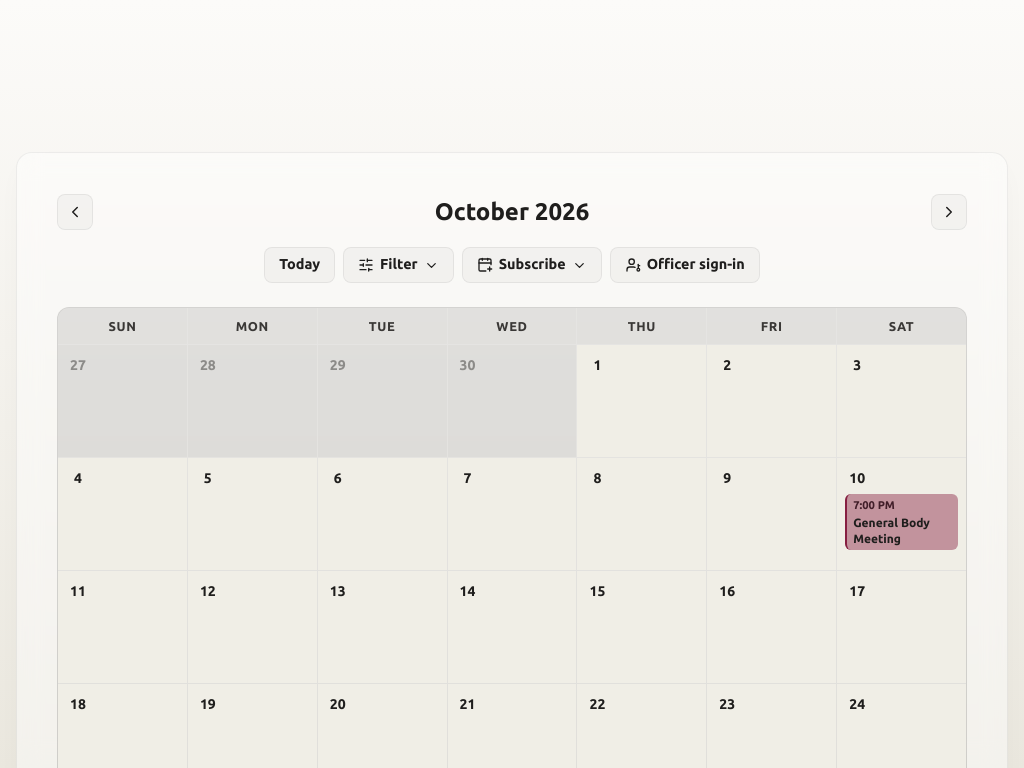
Test: Calendar page › closes the modal on the close button, then reopens on the next click
Click the button "7:00 PM General Body Meeting": coordinates (902, 522) [845,494,958,550]
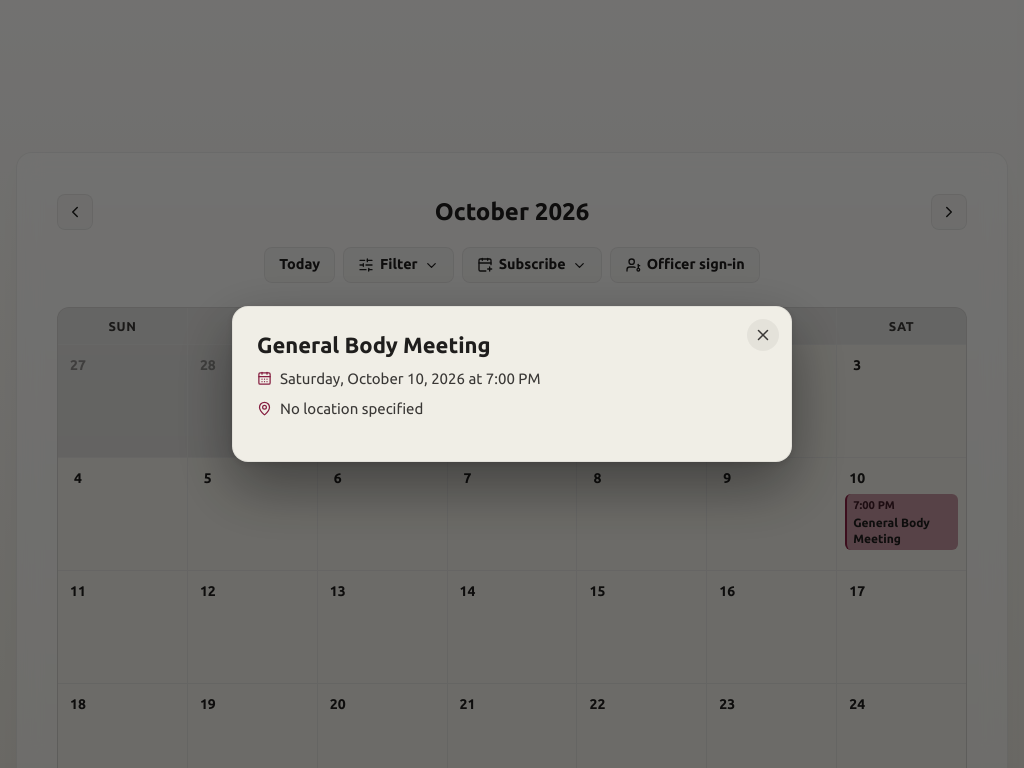
Click the button named "Close": coordinates (763, 335) [747,319,779,351]
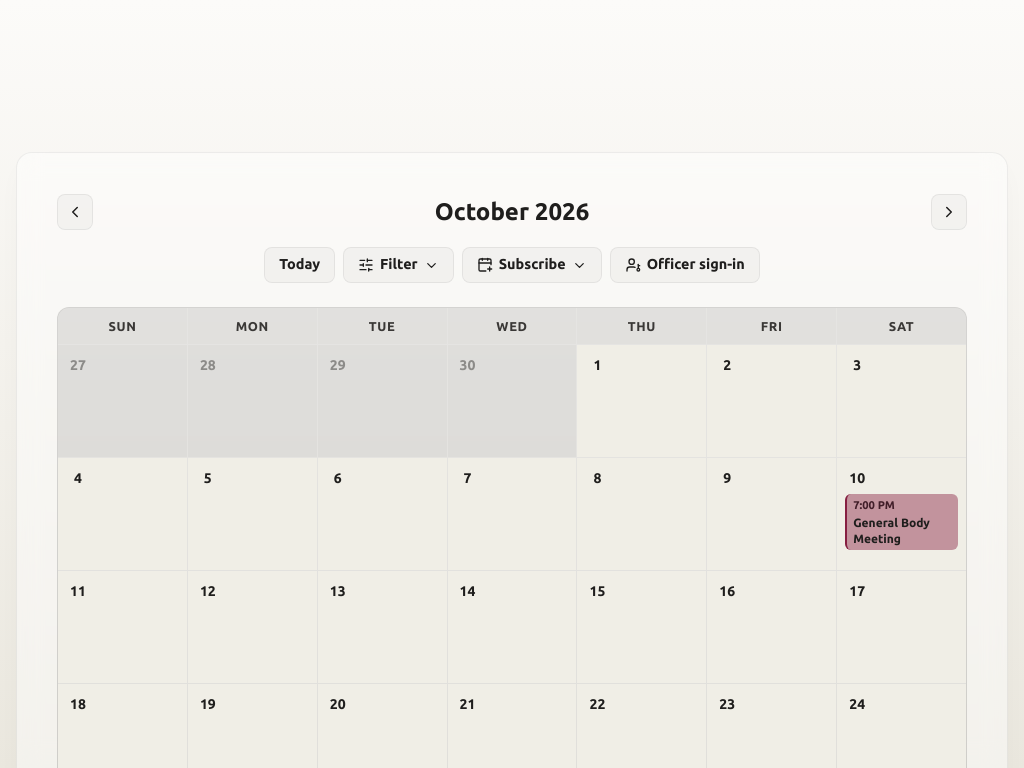
Expected: the dialog is gone
Click the button "7:00 PM General Body Meeting": coordinates (902, 522) [845,494,958,550]
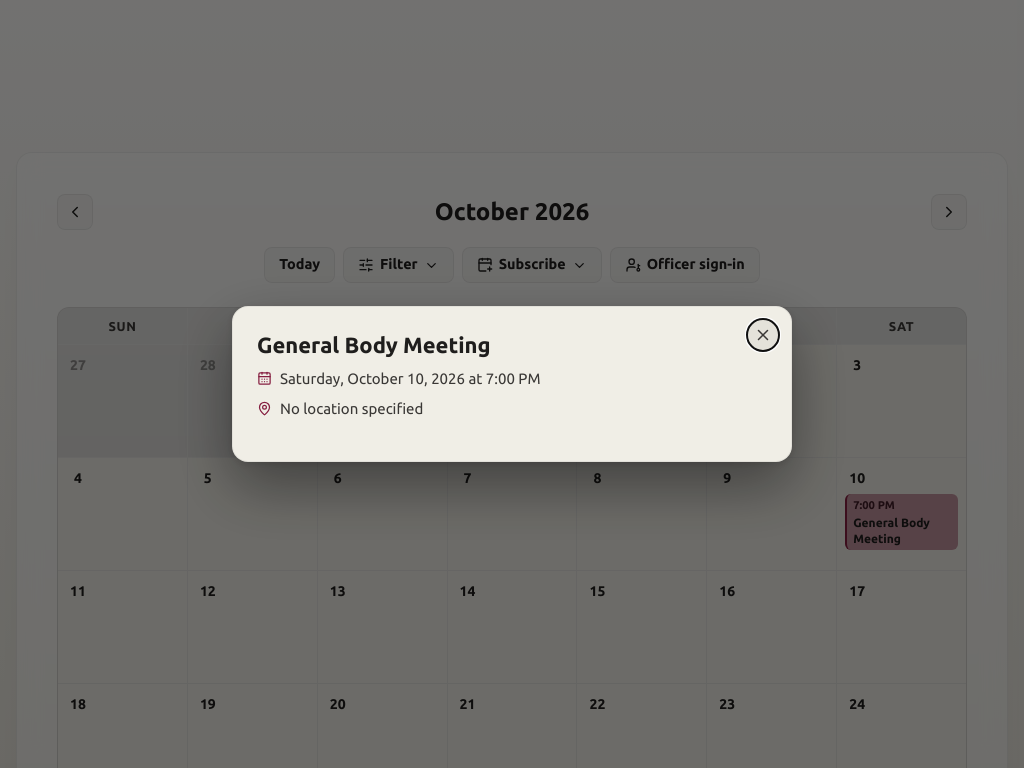
Expected: the dialog is shown
